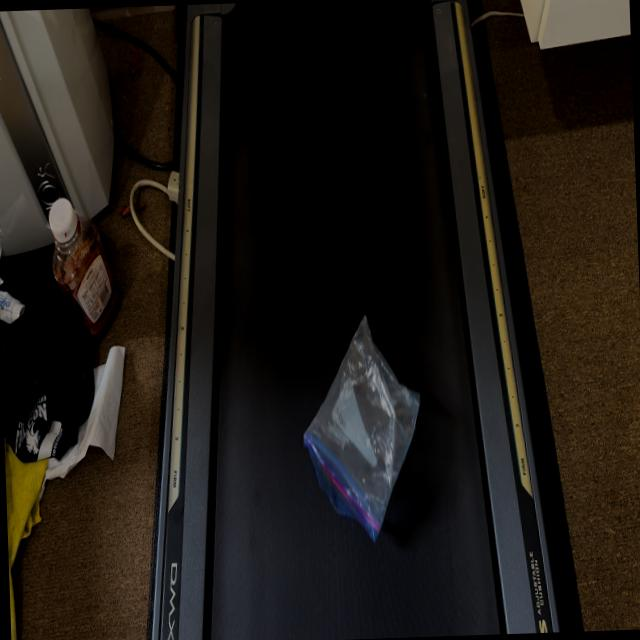Trash: (310, 336, 432, 532)
